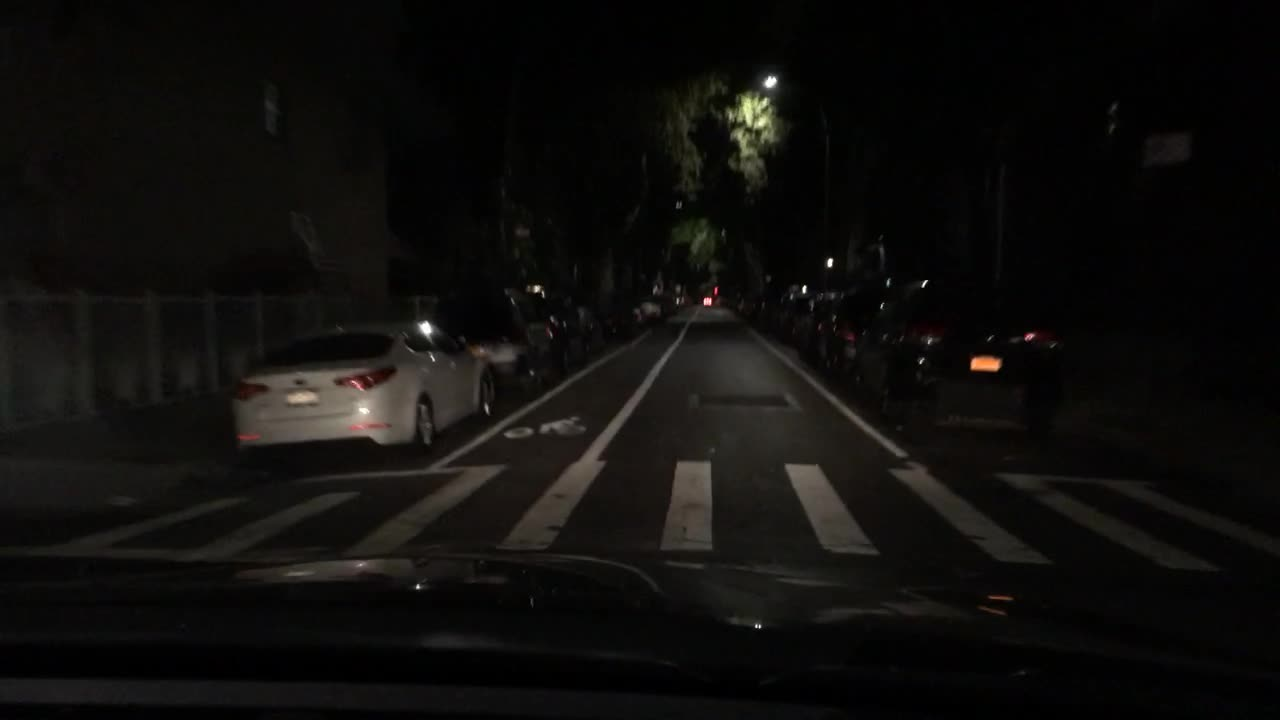car: (230, 308, 497, 456), (853, 274, 1066, 436), (817, 278, 897, 390), (457, 321, 564, 388), (798, 285, 839, 369), (548, 304, 603, 360), (759, 278, 807, 331), (580, 293, 641, 333), (632, 293, 668, 324), (737, 285, 767, 316), (664, 291, 683, 314), (729, 289, 748, 310), (716, 293, 733, 303)
